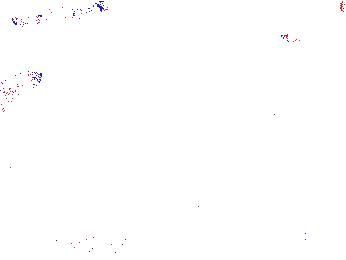glassfish: (231, 96, 335, 161)
red belly glassfish: (277, 30, 309, 47)
redtail glassfish: (8, 4, 89, 29), (1, 69, 45, 108)
siberian prawn: (52, 228, 144, 259)
